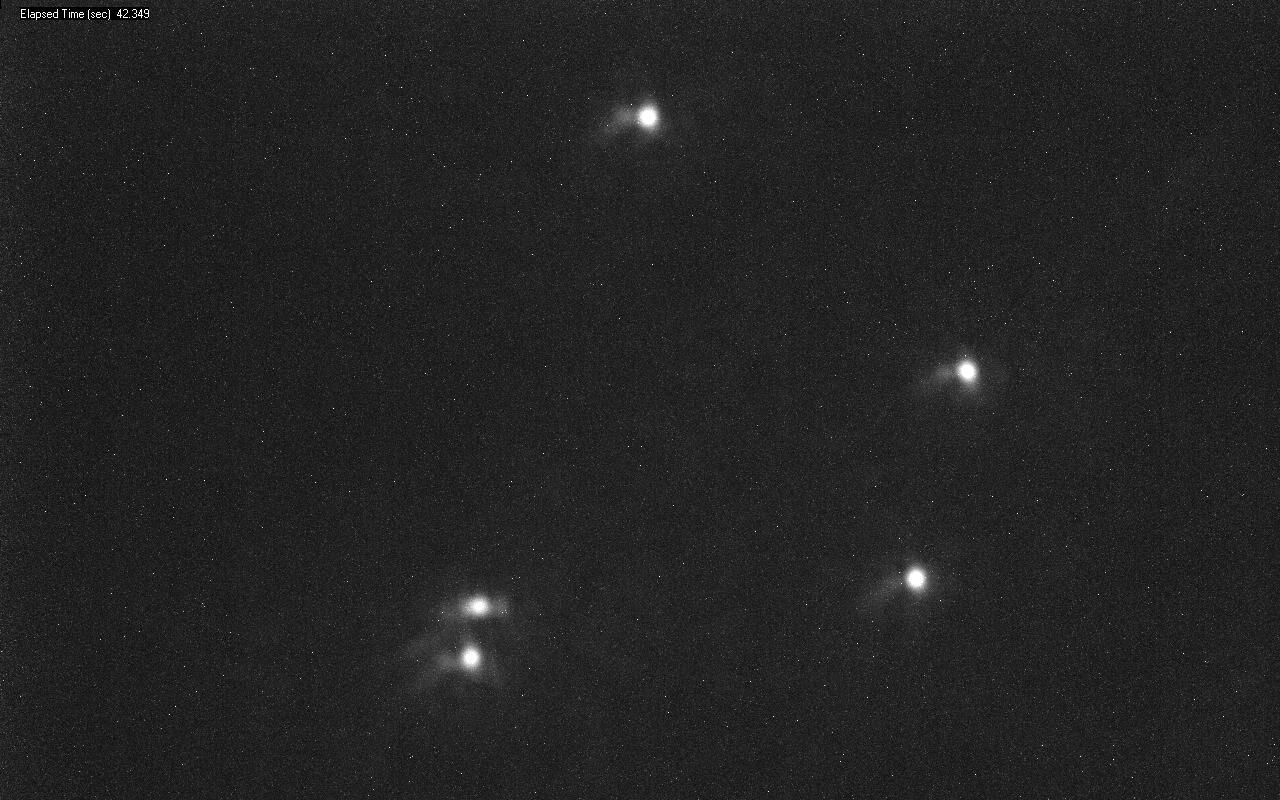Bead: (464, 595, 496, 618), (635, 106, 660, 132), (904, 566, 927, 592), (956, 359, 977, 387), (463, 646, 481, 668)
